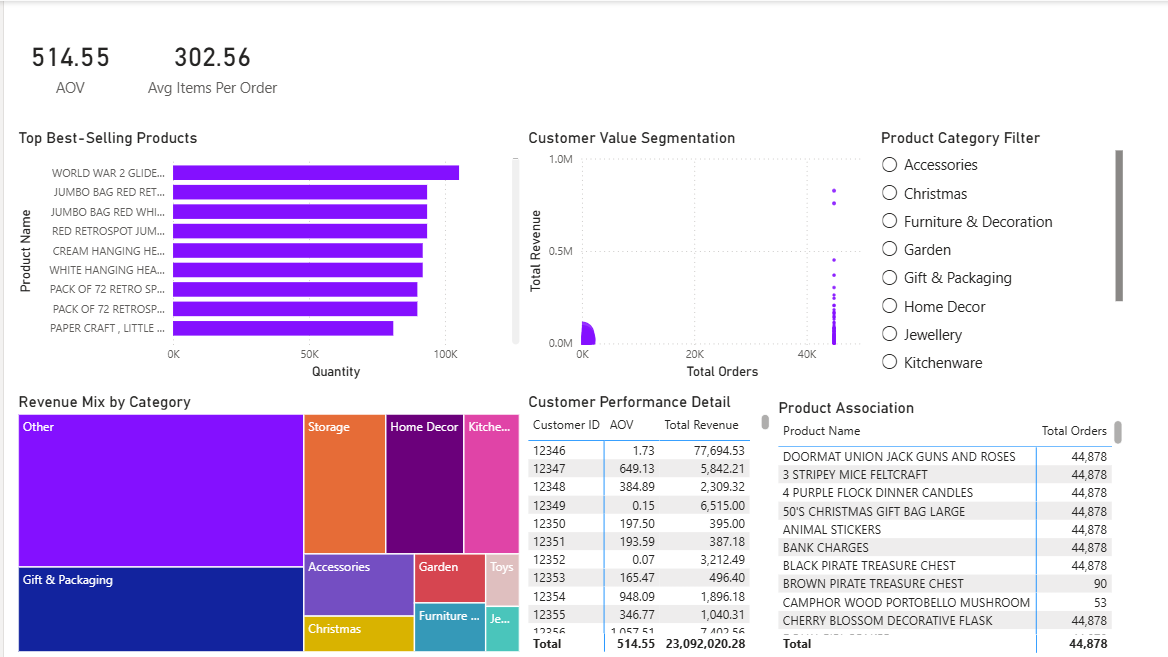

Layout of this report page (visuals, bound fields, positions):
{"tool":"powerbi","page":{"name":"Operational Detail","canvas":[1280,720],"ordinal":1},"visuals":[{"type":"card","fields":{"Values":["Measures.AOV"]},"box":[0,0,145.7,140],"z":0},{"type":"card","fields":{"Values":["Measures.Avg Items Per Order"]},"box":[145.7,0,167.1,140],"z":1000},{"type":"barChart","title":"Top Best-Selling Products","fields":{"Category":["Dim Product.Product Name"],"Y":["Fact Sales.Quantity"]},"box":[11.4,140,560,280],"z":2000},{"type":"pivotTable","title":"Customer Performance Detail","fields":{"Rows":["Dim Customer.Customer ID"],"Values":["Measures.AOV","Measures.Total Revenue"]},"box":[571.4,430,274.3,290],"z":3000},{"type":"treemap","title":"Revenue Mix by Category","fields":{"Group":["Dim Product.Category"],"Values":["Measures.Total Revenue"]},"box":[11.4,430,560,290],"z":4000},{"type":"pivotTable","title":"Product Association","fields":{"Columns":["Dim Product.Product Name"],"Rows":["Dim Product.Product Name"],"Values":["Measures.Total Orders"]},"box":[845.7,435.7,387.1,284.3],"z":5000},{"type":"scatterChart","title":"Customer Value Segmentation","fields":{"X":["Measures.Total Orders"],"Y":["Measures.Total Revenue"],"Category":["Dim Customer.Customer ID"],"Size":["Measures.AOV"]},"box":[571.4,140,387.1,280],"z":6000},{"type":"listSlicer","title":"Product Category Filter","fields":{"Values":["Dim Product.Category"]},"box":[958,140,275,280],"z":7000}]}

Visuals, with their boxes in screenshot pixels (x1, y1, x2, y2), scaled from the page's 1280x720 canvas onto the 1168x657 screenshot:
card - Measures.AOV: (0, 0, 133, 128)
card - Measures.Avg Items Per Order: (133, 0, 285, 128)
"Top Best-Selling Products" barChart: (10, 128, 521, 383)
"Customer Performance Detail" pivotTable: (521, 392, 772, 656)
"Revenue Mix by Category" treemap: (10, 392, 521, 656)
"Product Association" pivotTable: (772, 398, 1125, 656)
"Customer Value Segmentation" scatterChart: (521, 128, 875, 383)
"Product Category Filter" listSlicer: (874, 128, 1125, 383)
